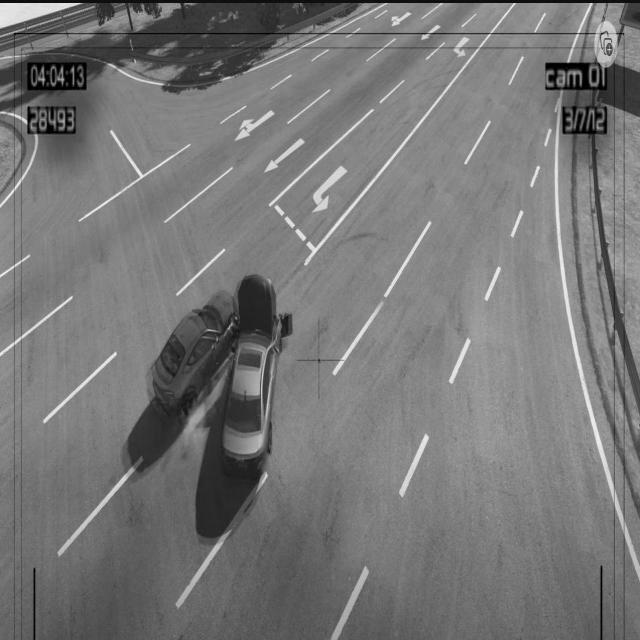accident: (144, 275, 293, 479)
